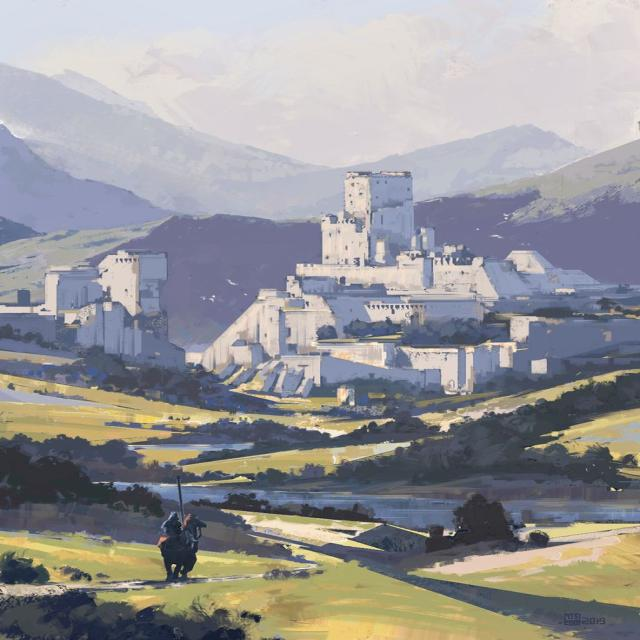castle: (193, 152, 582, 418)
